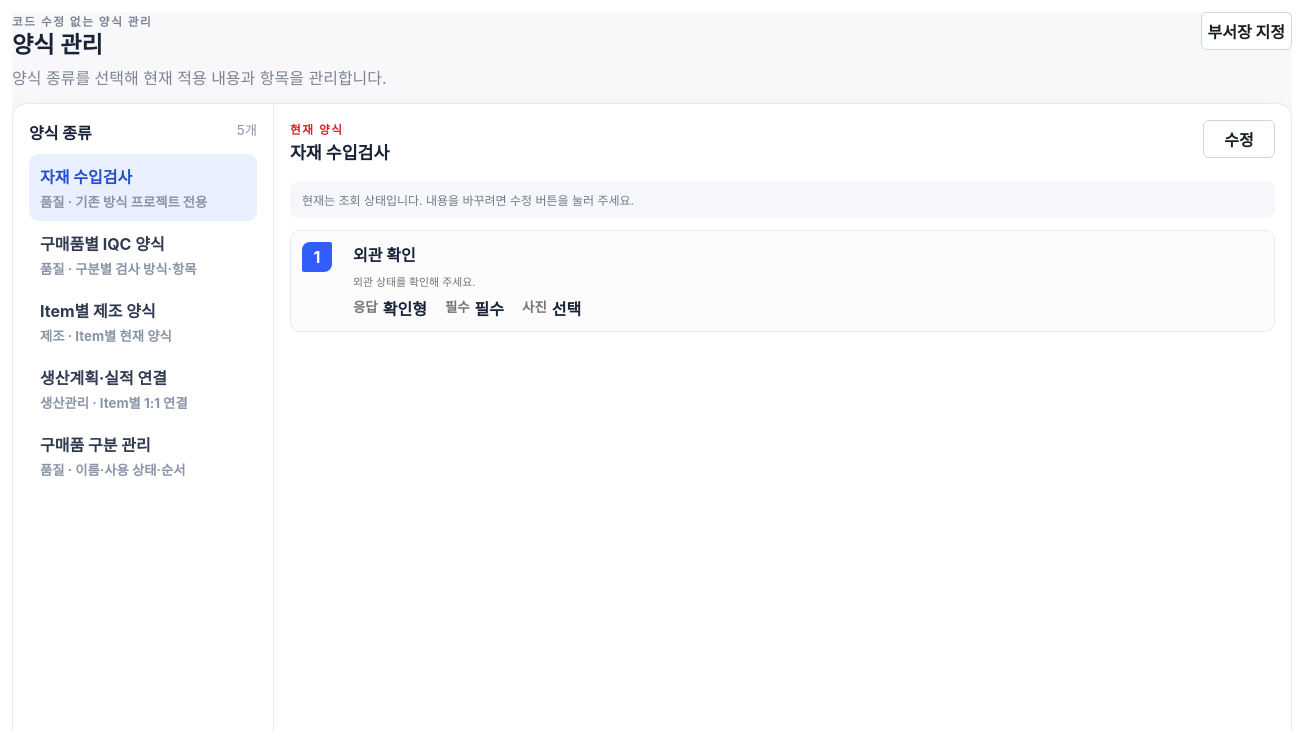
Test: FormTemplateManagementPage › edits and saves the one current inspection form without version controls
The image size is (1304, 732).
Expected: the button "저장" is not shown
What coordinates should you click on to do the following:
click the button "수정"
I would click on:
 (1239, 139)
Its box is [1203,120,1275,158].
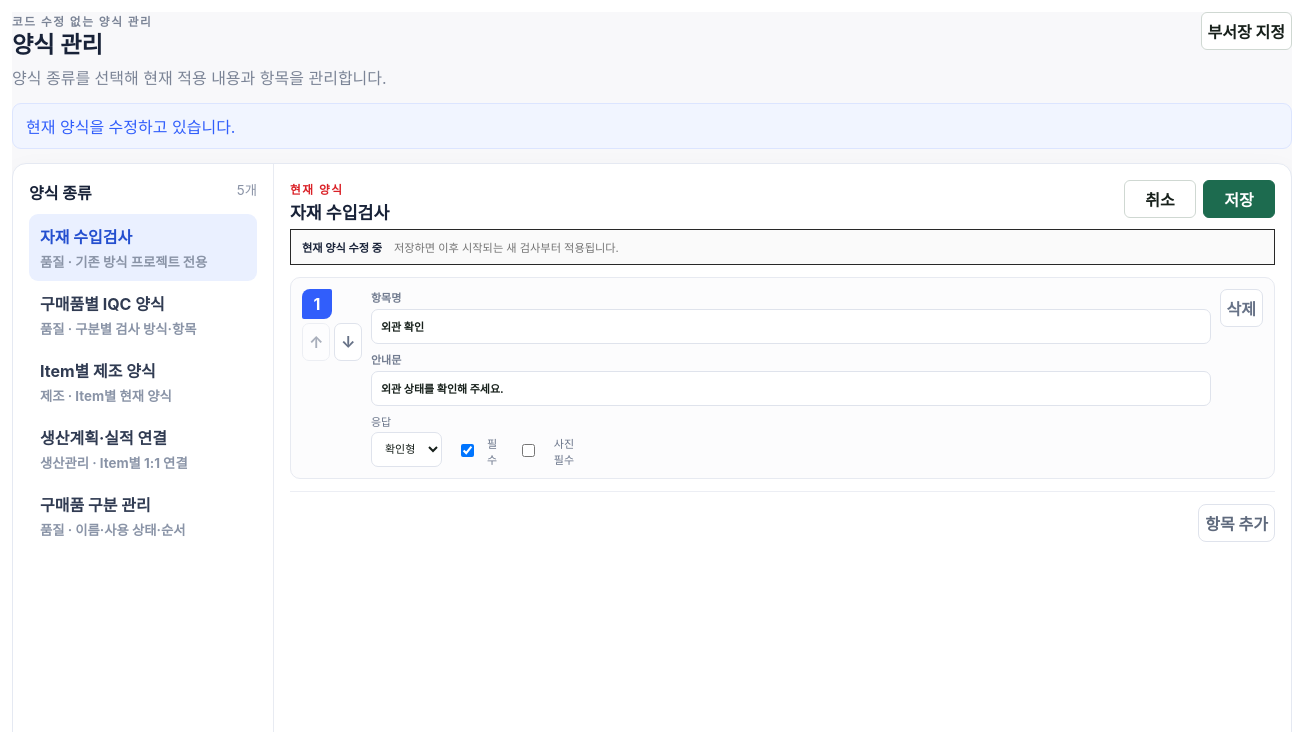
Expected: the button "저장" is enabled
Expected: the field labelled "항목명" is enabled, [371,309,1211,344]
What coordinates should you click on to do the following:
click the button "저장"
I would click on:
 (1239, 199)
Its box is [1203,180,1275,218].
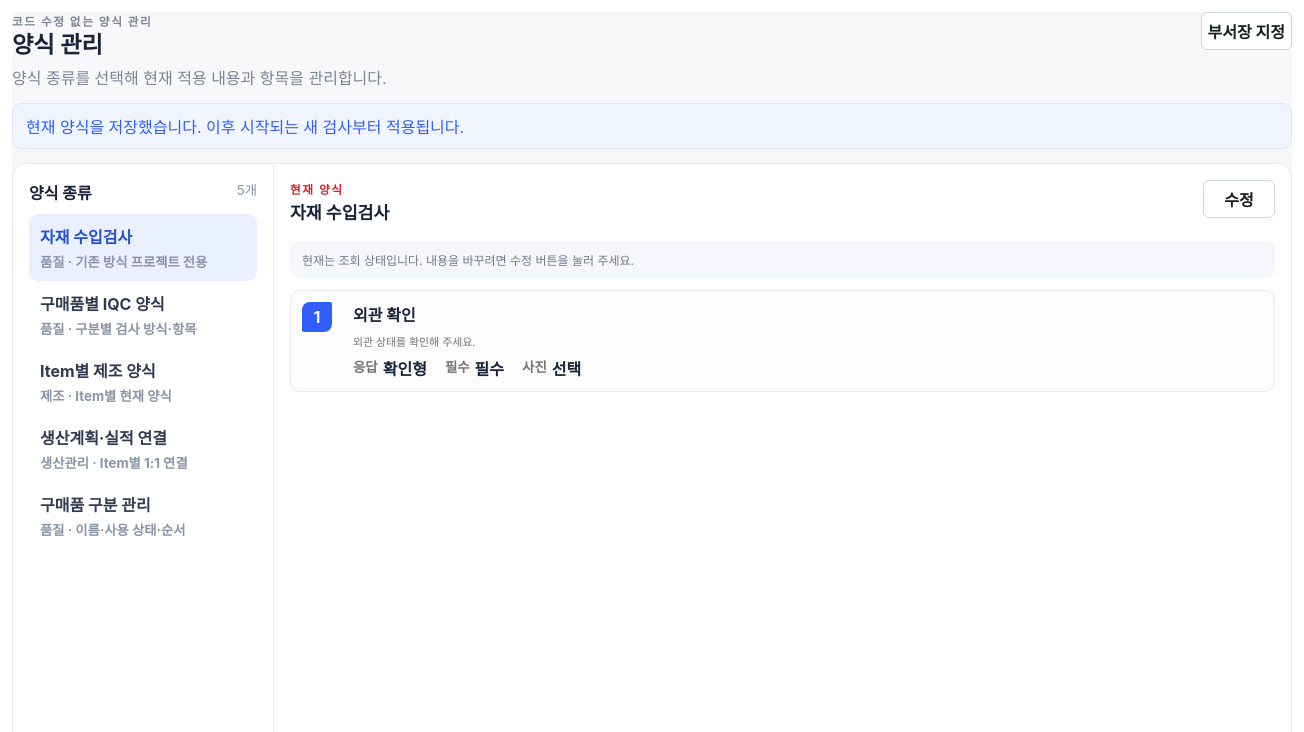
Expected: the text "현재 양식을 저장했습니다. 이후 시작되는 새 검사부터 적용됩니다." is shown, [12,103,1292,149]
